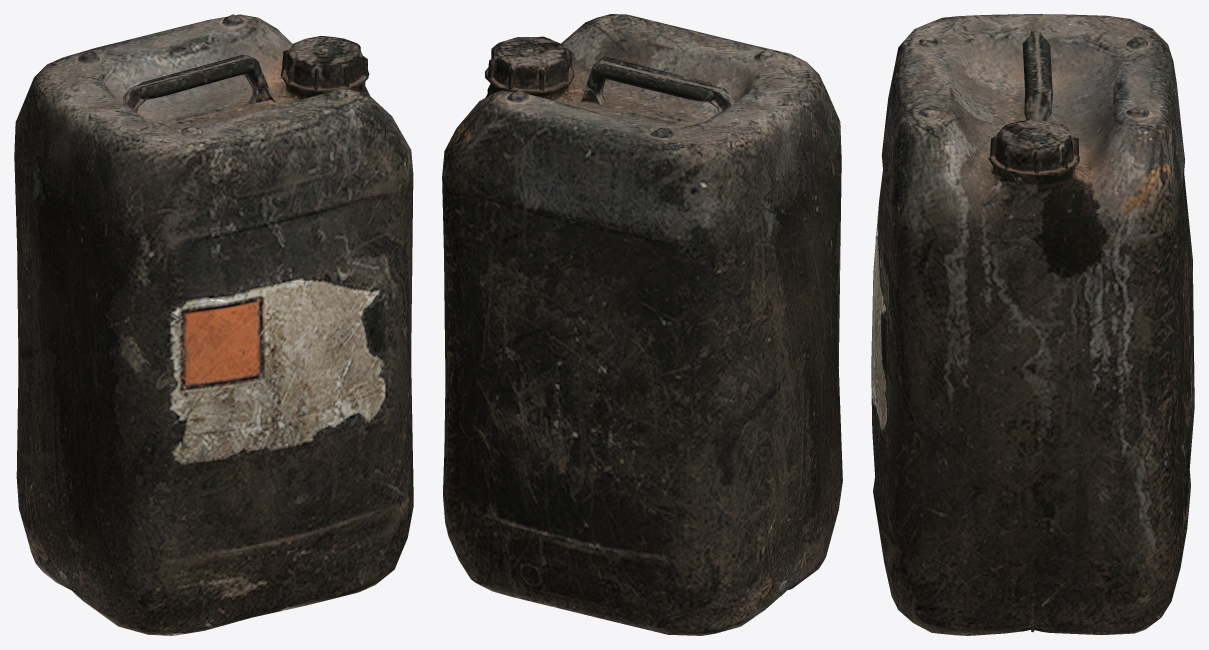
The model's file is SM_Ind_Jun_Container_Plastic_Worn_01.gltf.
3 views of the same model, side by side, from view 1: azimuth 30°, elevation 25°; view 2: azimuth 150°, elevation 25°; view 3: azimuth 270°, elevation 25° (orthographic).
Parts seen in each view (by area): view 1: SM_Ind_Jun_Container_Plastic_Worn_01; view 2: SM_Ind_Jun_Container_Plastic_Worn_01; view 3: SM_Ind_Jun_Container_Plastic_Worn_01.
Boxes of the visible parts, x1,y1,x2,y2 form: SM_Ind_Jun_Container_Plastic_Worn_01: (14, 14, 413, 635); SM_Ind_Jun_Container_Plastic_Worn_01: (442, 14, 842, 635); SM_Ind_Jun_Container_Plastic_Worn_01: (871, 14, 1194, 635).
Bounding box in the file's own units: 0.3182 × 0.4701 × 0.2723.
1 material, 1 textured.
